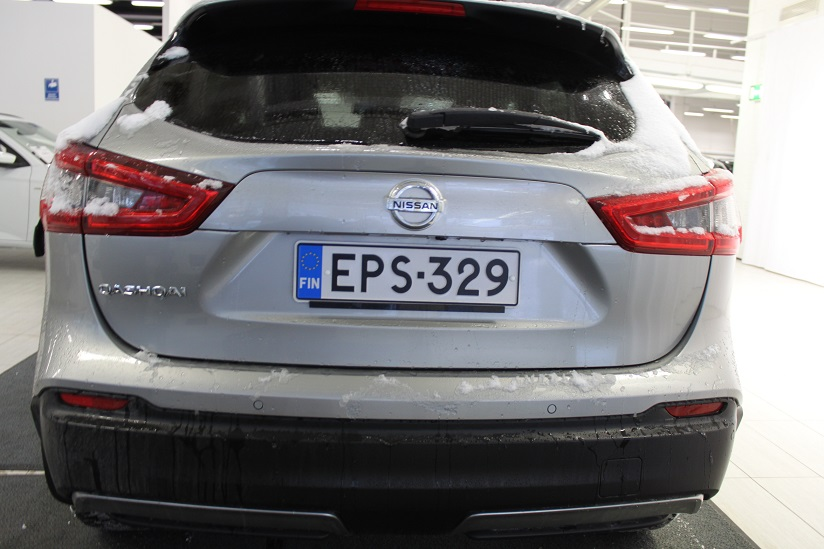license: (290, 237, 521, 309)
